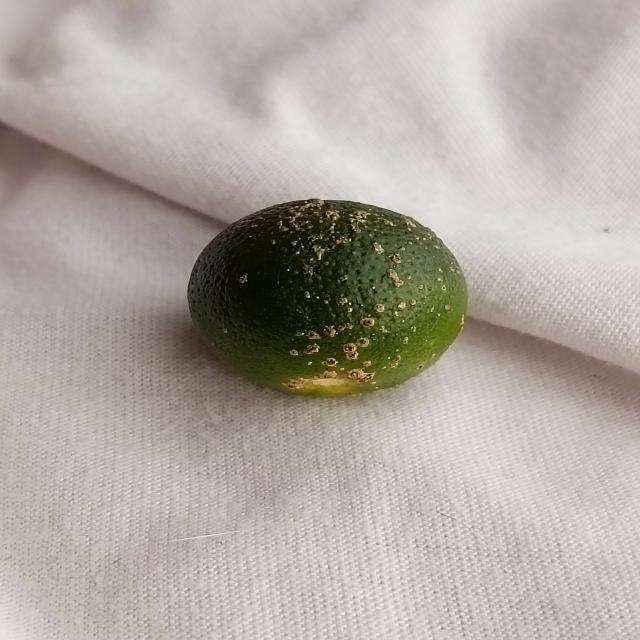scab: (172, 190, 470, 408)
